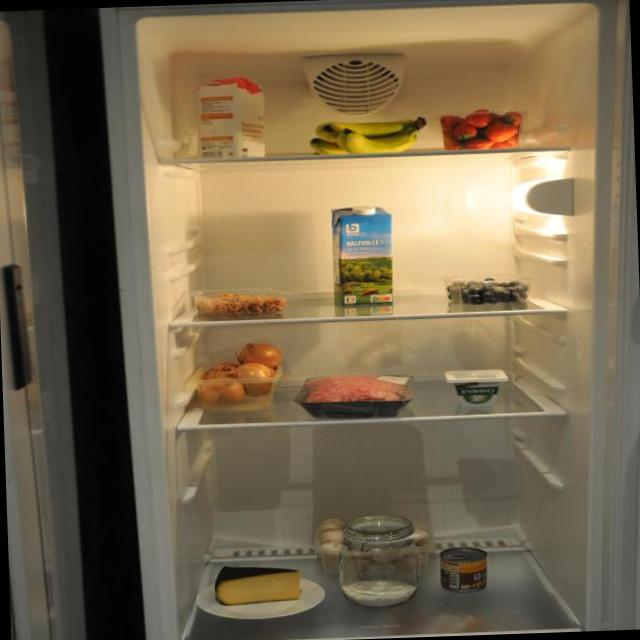Carne vacuno: (294, 370, 408, 423)
Cebolla: (192, 340, 286, 412)
Champiñones: (313, 515, 432, 574)
Gambas/Langostinos: (190, 286, 290, 320)
Leche: (329, 198, 400, 316)
Plátano: (304, 116, 434, 156)
Queso: (212, 560, 305, 606), (443, 366, 512, 409)
blueberries: (444, 272, 530, 310)
corn: (436, 542, 488, 596)
flour: (335, 506, 424, 616)
strawberries: (434, 103, 530, 151)
sugar: (190, 71, 274, 160)
